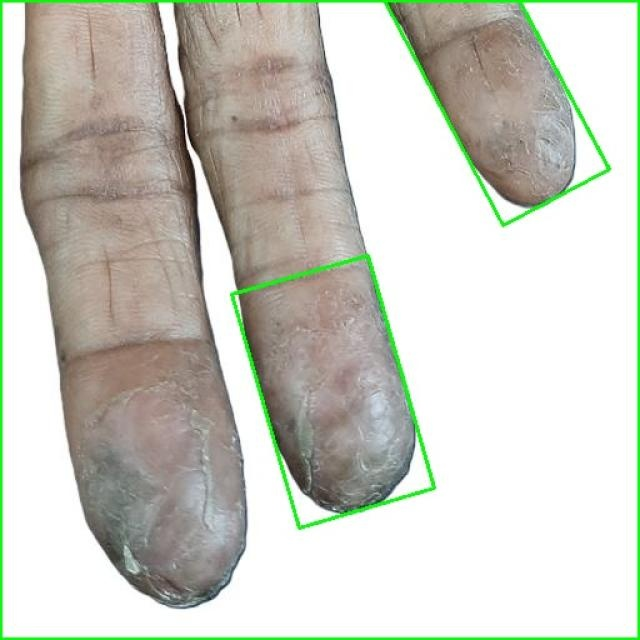Contact Dermatitis: (0, 0, 639, 639), (232, 256, 435, 528), (384, 0, 610, 225)
